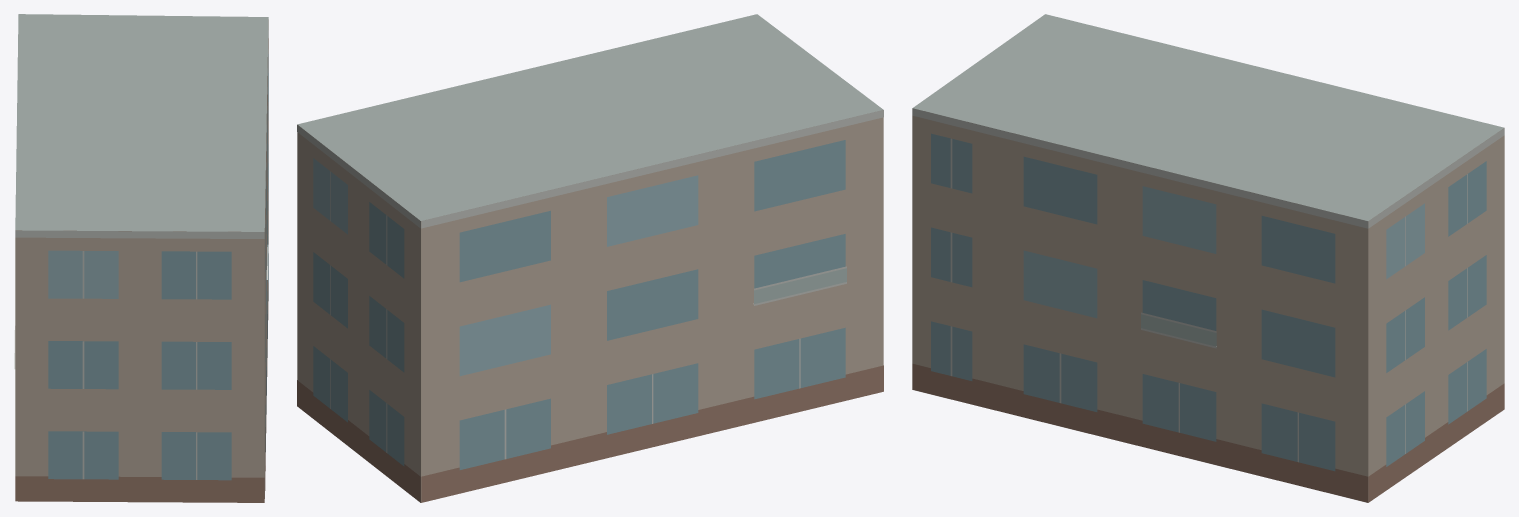
The model's file is survey-upis-32722115.glb.
3 views of the same model, side by side, from view 1: azimuth 30°, elevation 25°; view 2: azimuth 150°, elevation 25°; view 3: azimuth 270°, elevation 25° (orthographic). The views are drawn at different scales.
Parts seen in each view (by area): view 1: survey-upis-32722115.tmp; view 2: survey-upis-32722115.tmp; view 3: survey-upis-32722115.tmp.
Part boxes in pixels (x1,y1,x2,y2): survey-upis-32722115.tmp: (14, 14, 268, 502); survey-upis-32722115.tmp: (297, 14, 883, 502); survey-upis-32722115.tmp: (912, 14, 1504, 502).
Bounding box in the file's own units: 14.45 × 9.15 × 17.44.
